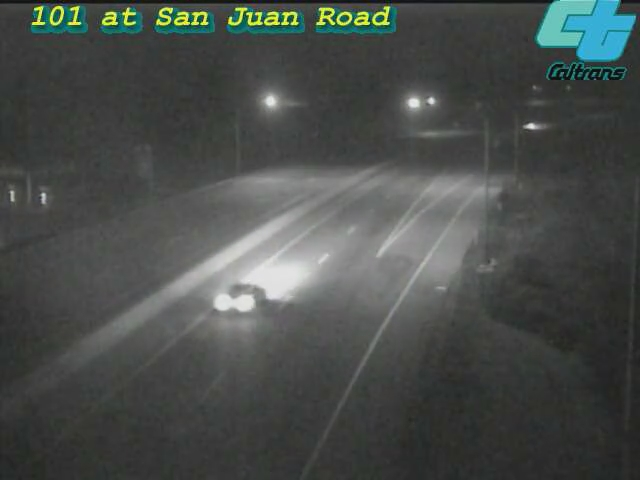vehicle: (195, 257, 275, 337), (506, 102, 556, 152)
